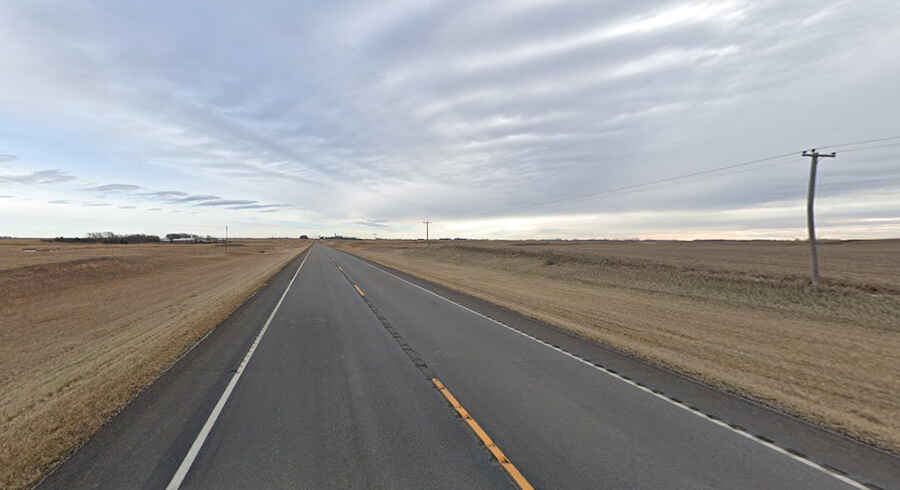straightRoad: (268, 250, 601, 490)
